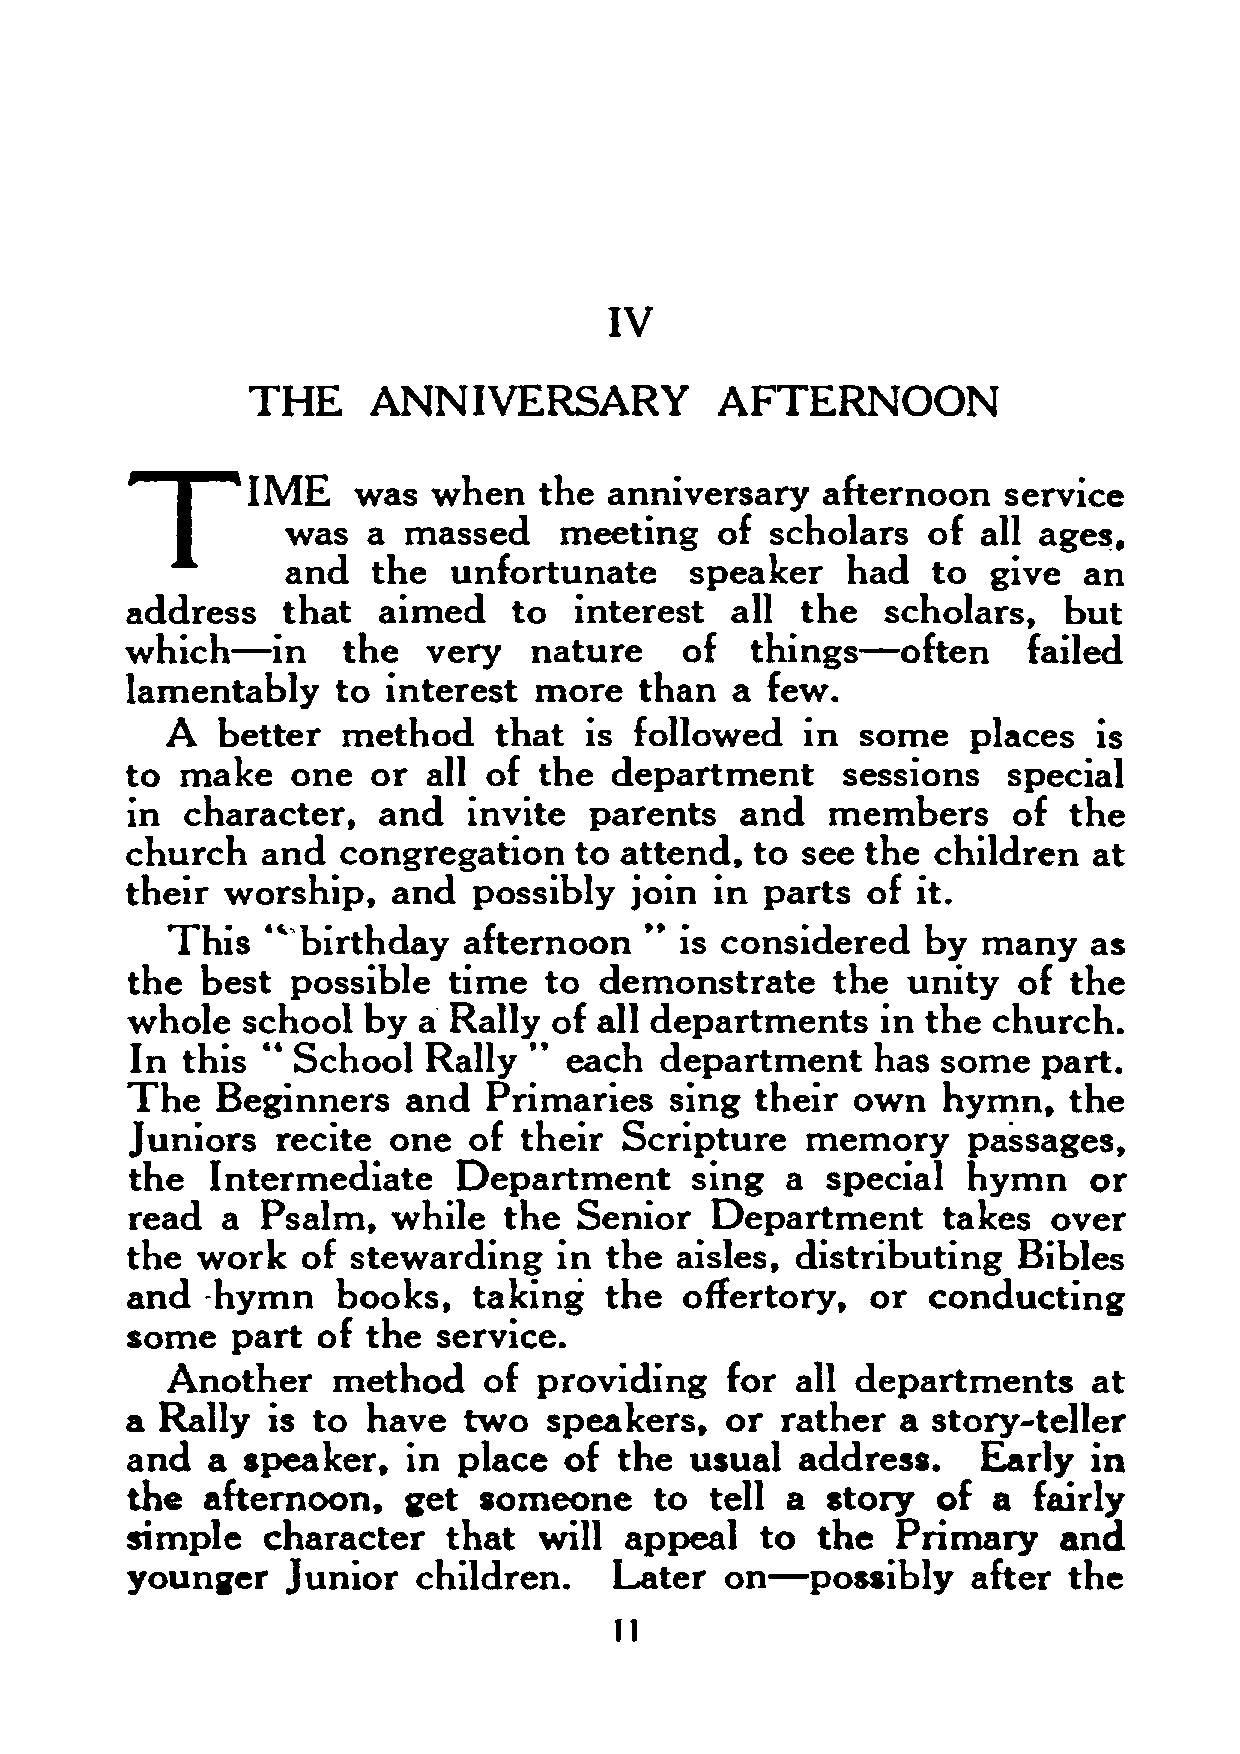chapter: (246, 302, 1000, 417)
content: (119, 466, 1125, 1596)
content_pagenumber: (607, 1614, 644, 1647)
